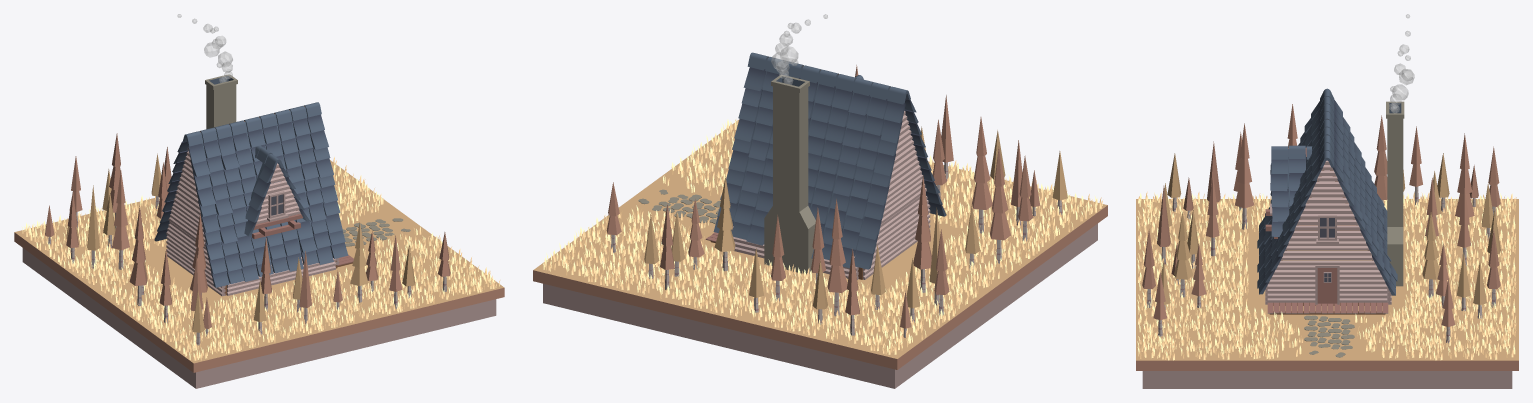
File: Tiny Forest 1.fbx
3 views of the same model, side by side, from view 1: azimuth 30°, elevation 25°; view 2: azimuth 150°, elevation 25°; view 3: azimuth 270°, elevation 25° (orthographic). The views are drawn at different scales.
Visible parts, largest first — view 1: polySurface1, polySurface2, pCube10, pCube69, pCube65, pCube70, pCube72, pCube67, pCube66, pCube68, pCube71, pCube84 (+21 smaller); view 2: polySurface1, polySurface3, pCube10, pCube74, pCube75, pCube79, pCube76, pCube81, pCube77, pCube80, pCube71, polySurface2 (+32 smaller); view 3: polySurface1, polySurface3, polySurface2, pCube10, pCube74, pCube65, pCube66, pCube76, pCube63, pCube77, pCube68, pCube83 (+41 smaller).
Boxes of the visible parts, x1,y1,x2,y2 form: polySurface1: (14, 160, 504, 388); polySurface2: (188, 106, 348, 287); pCube10: (205, 74, 237, 129); pCube69: (214, 292, 299, 342); pCube65: (415, 246, 500, 294); pCube70: (256, 283, 341, 333); pCube72: (174, 303, 258, 353); pCube67: (293, 273, 378, 323); pCube66: (377, 253, 458, 304); pCube68: (335, 266, 420, 314); pCube71: (147, 312, 217, 360); pCube84: (117, 265, 202, 314); polySurface1: (533, 119, 1107, 388); polySurface3: (713, 67, 905, 269); pCube10: (764, 74, 815, 274); pCube74: (543, 217, 640, 277); pCube75: (679, 254, 771, 313); pCube79: (825, 287, 922, 345); pCube76: (585, 231, 682, 290); pCube81: (729, 263, 826, 322); pCube77: (637, 240, 734, 299); pCube80: (771, 277, 869, 335); pCube71: (1014, 192, 1102, 247); polySurface2: (768, 57, 946, 216); polySurface1: (1136, 199, 1518, 388); polySurface3: (1332, 100, 1397, 295); polySurface2: (1257, 101, 1322, 294); pCube10: (1386, 101, 1404, 286); pCube74: (1405, 330, 1515, 360); pCube65: (1137, 329, 1247, 360); pCube66: (1138, 310, 1248, 340); pCube76: (1406, 311, 1516, 340); pCube63: (1267, 302, 1388, 313); pCube77: (1405, 288, 1515, 318); pCube68: (1137, 290, 1247, 318); pCube83: (1359, 306, 1424, 358).
Bounding box in the file's own units: 8.3 × 6.56 × 8.28.
12 materials, 3 textured.
